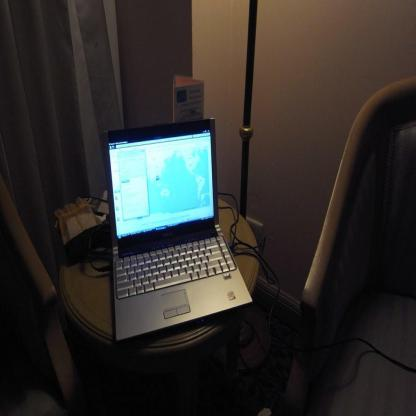board: (99, 115, 254, 341)
